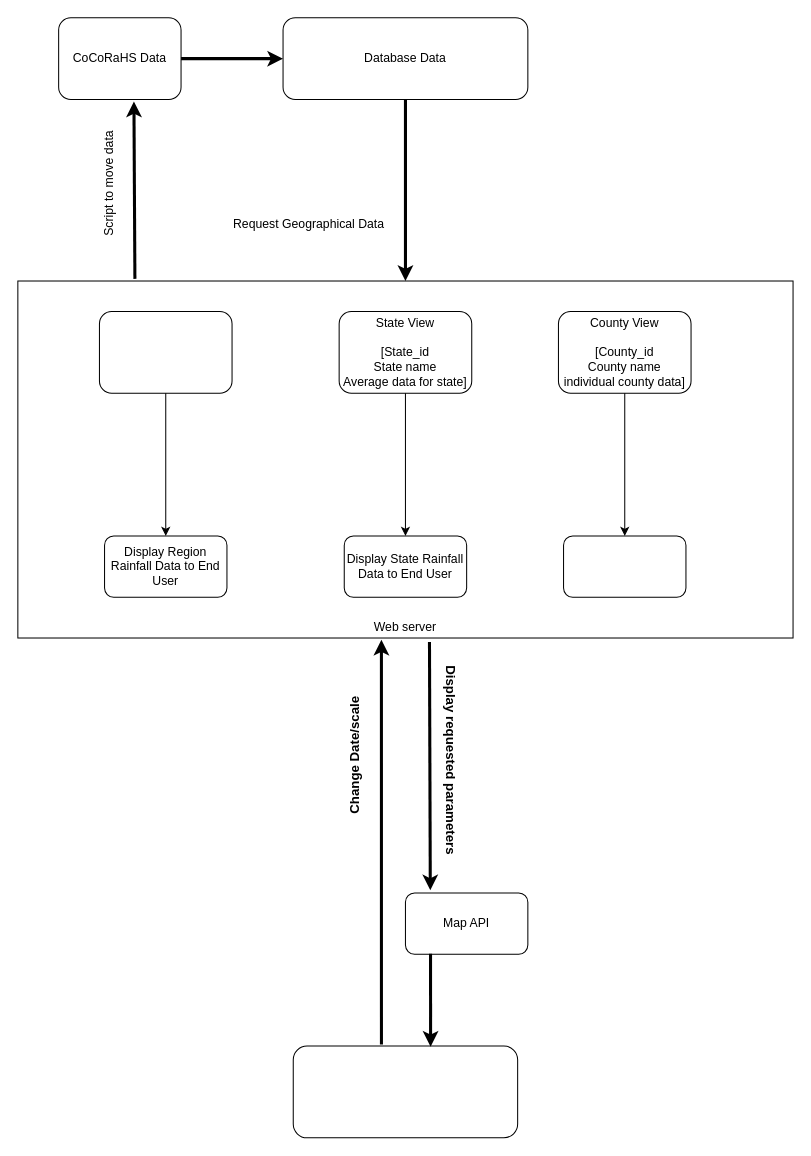
Some shapes in this 811 by 1156 pixel diagram are drawn without their labels. The centre of each missing label's shape, as x and y in pixels:
"Display County Rainfall Data to End User" goes at pixel 624 566.
"End User" goes at pixel 405 1091.
"Region View [Region_id Region name Average data for region]" goes at pixel 165 352.
